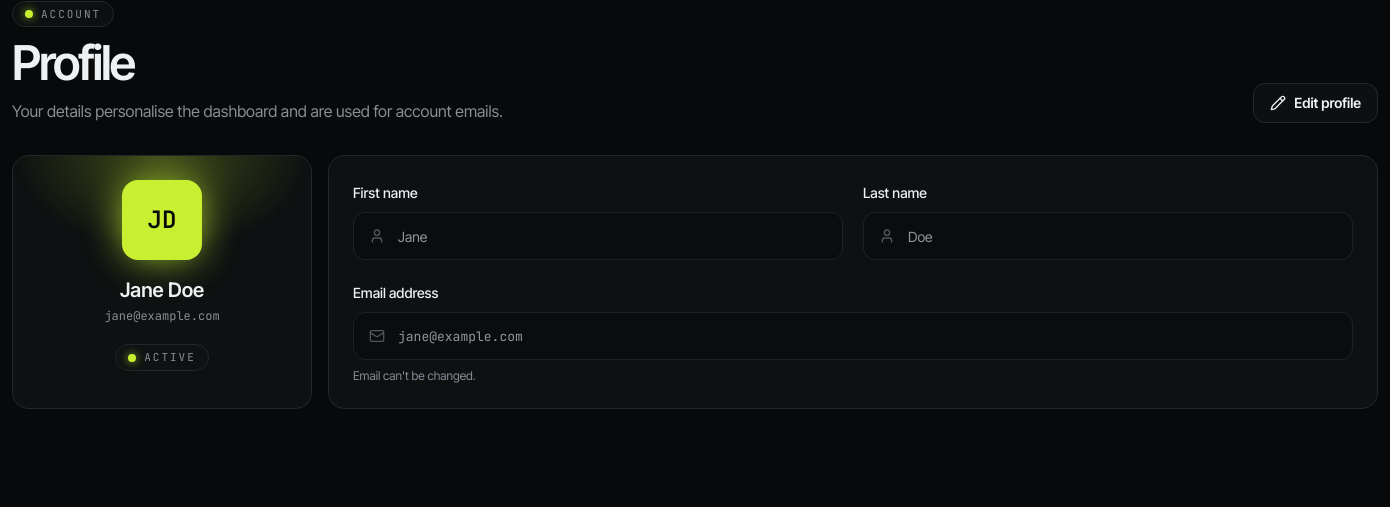
Test case: Profile › cancels editing without saving
Click the button "Edit profile" at (1316, 103), box [1253,83,1378,123]
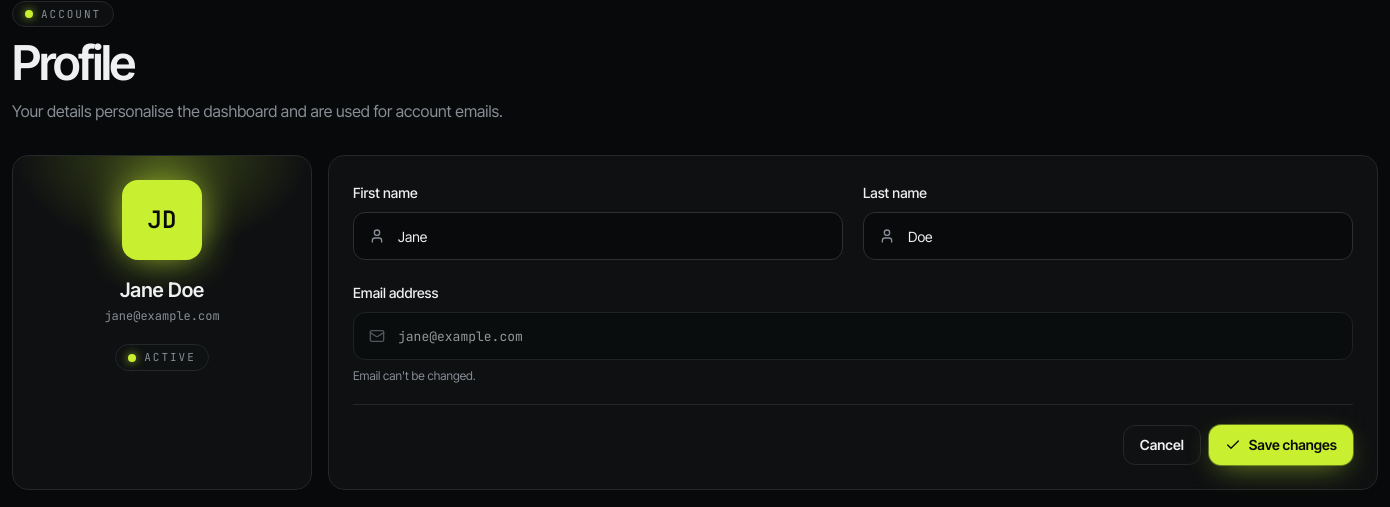
Click the button "Cancel" at (1162, 445), box [1123,425,1201,465]
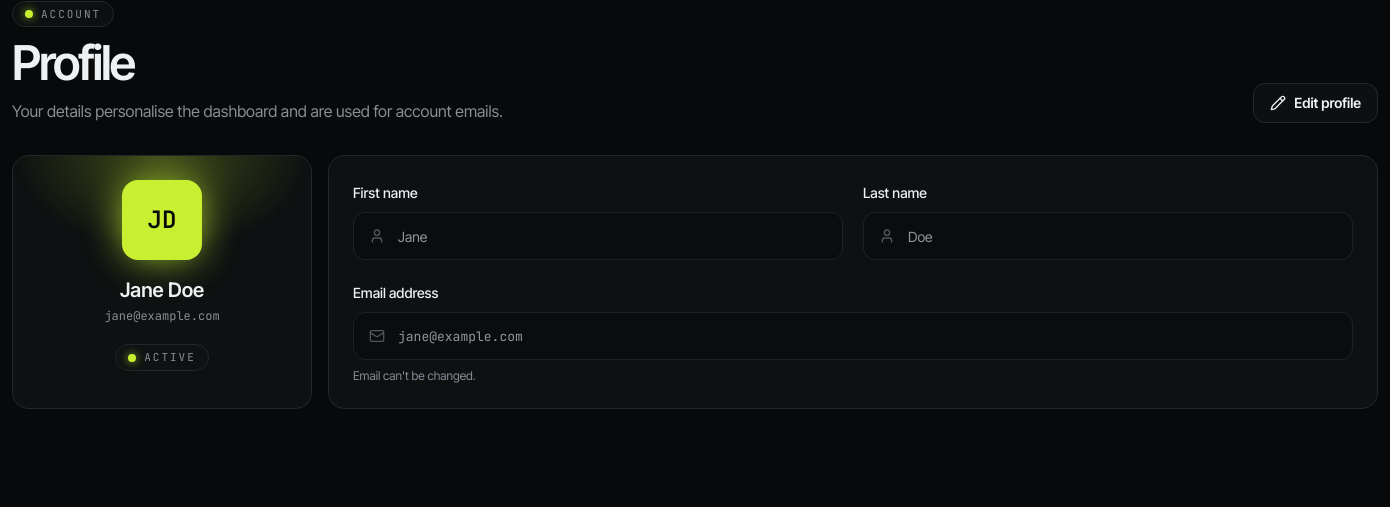
Expected: the field labelled "First name" is disabled, [353,212,843,260]
